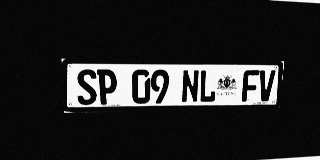0: (132, 69, 150, 104)
9: (151, 69, 169, 104)
F: (241, 70, 260, 102)
L: (199, 70, 217, 103)
N: (181, 70, 199, 103)
P: (97, 69, 117, 105)
S: (76, 69, 97, 105)
V: (257, 70, 276, 101)
